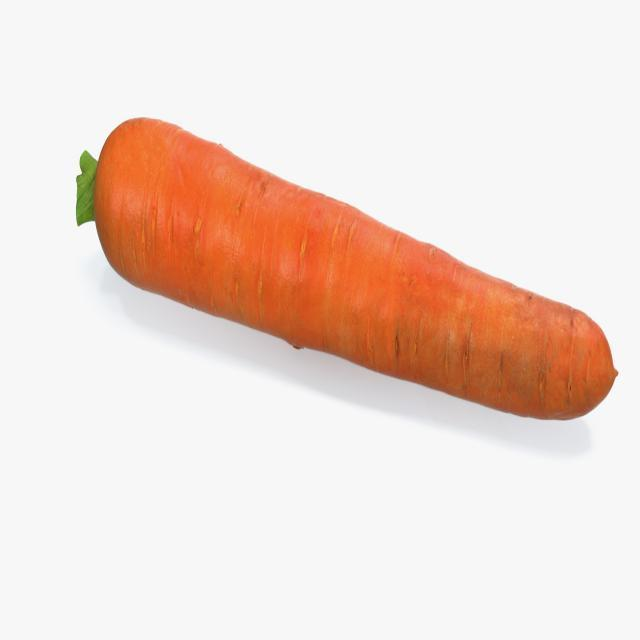carrot: (70, 116, 620, 426)
